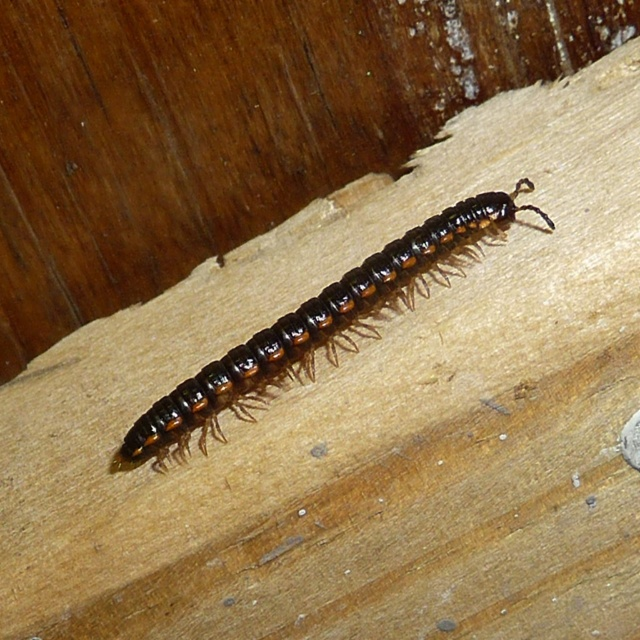Centipede: (115, 180, 552, 473)
